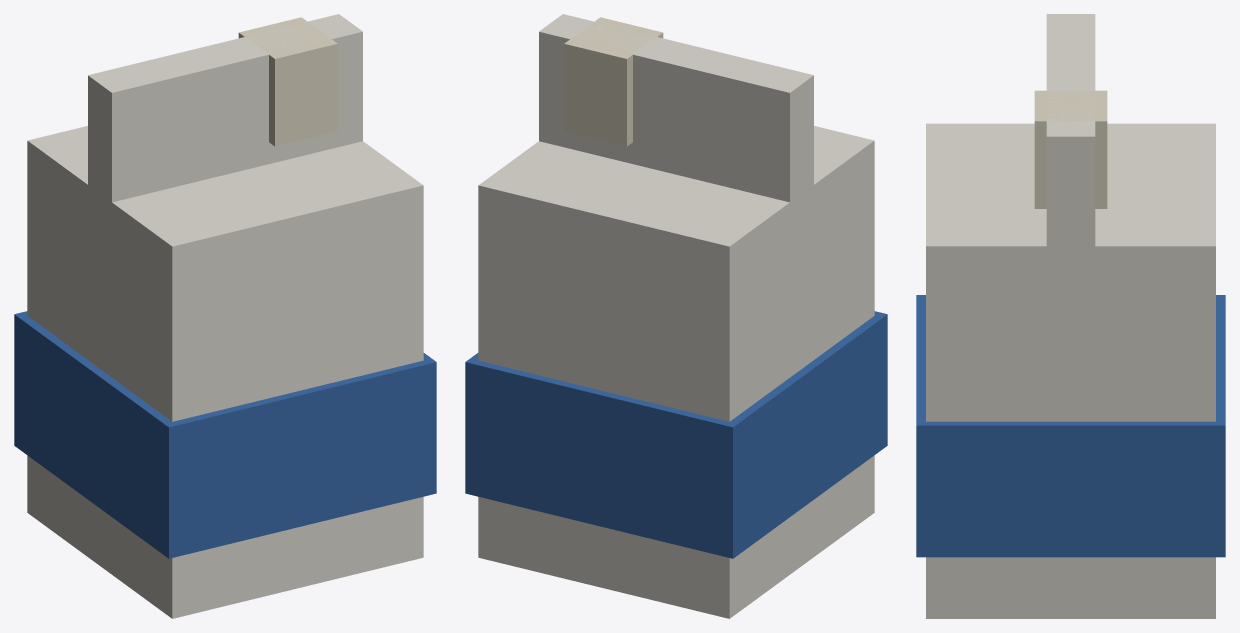
File: item-milk.glb
3 views of the same model, side by side, from view 1: azimuth 30°, elevation 25°; view 2: azimuth 150°, elevation 25°; view 3: azimuth 270°, elevation 25° (orthographic).
Visible parts, largest first — view 1: #f0ede4, #3a6aa8_noshadow, #f0ede4_noshadow, #d8d2c0_noshadow; view 2: #f0ede4, #3a6aa8_noshadow, #f0ede4_noshadow, #d8d2c0_noshadow; view 3: #f0ede4, #3a6aa8_noshadow, #f0ede4_noshadow, #d8d2c0_noshadow.
Part boxes in pixels (x1=…): #f0ede4: x1=27, y1=126, x2=423, y2=618; #3a6aa8_noshadow: x1=14, y1=311, x2=436, y2=558; #f0ede4_noshadow: x1=88, y1=14, x2=362, y2=222; #d8d2c0_noshadow: x1=238, y1=17, x2=337, y2=146; #f0ede4: x1=478, y1=126, x2=874, y2=618; #3a6aa8_noshadow: x1=465, y1=311, x2=887, y2=558; #f0ede4_noshadow: x1=539, y1=14, x2=813, y2=202; #d8d2c0_noshadow: x1=564, y1=17, x2=663, y2=146; #f0ede4: x1=926, y1=123, x2=1215, y2=618; #3a6aa8_noshadow: x1=916, y1=295, x2=1225, y2=557; #f0ede4_noshadow: x1=1046, y1=14, x2=1095, y2=267; #d8d2c0_noshadow: x1=1034, y1=90, x2=1107, y2=208.
Size of the model in its own units: 0.128 by 0.22 by 0.128.
